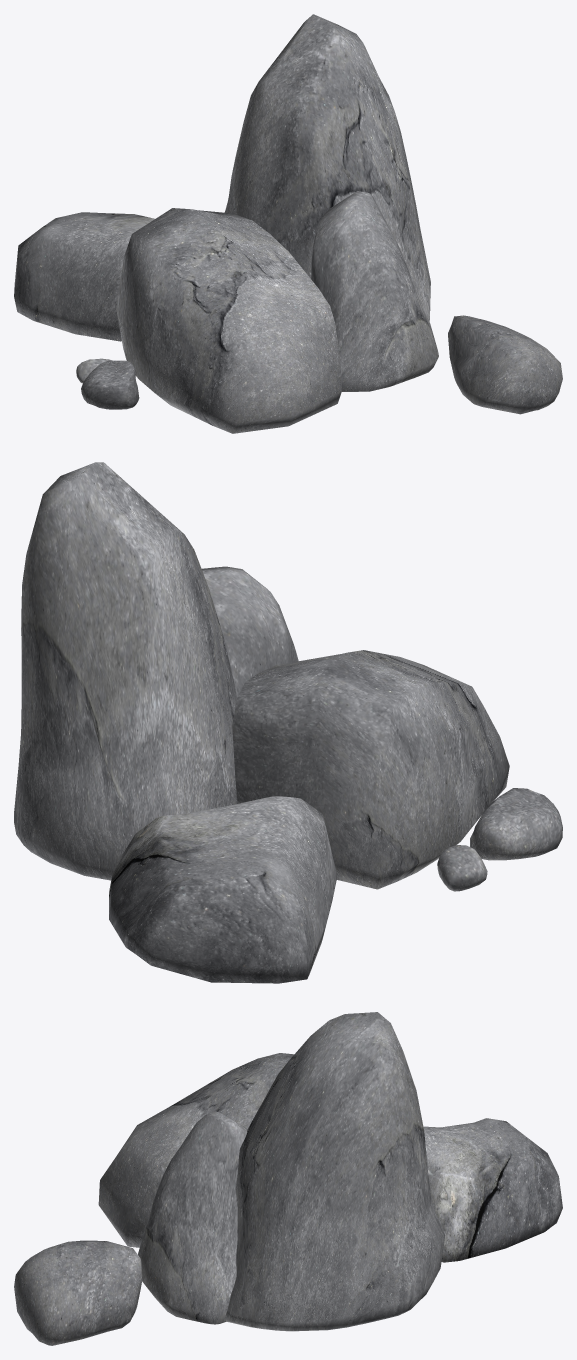
File: stones1.fbx
3 views of the same model, one above another, from view 1: azimuth 30°, elevation 25°; view 2: azimuth 150°, elevation 25°; view 3: azimuth 270°, elevation 25° (orthographic). The views are drawn at different scales.
Parts seen in each view (by area): view 1: pCube8; view 2: pCube8; view 3: pCube8.
Boxes of the visible parts, x1=… form: pCube8: x1=14, y1=14, x2=562, y2=433; pCube8: x1=14, y1=462, x2=562, y2=983; pCube8: x1=14, y1=1012, x2=562, y2=1345.
Bounding box in the file's own units: 5.81 × 4.15 × 6.87.
1 material, 1 textured.
